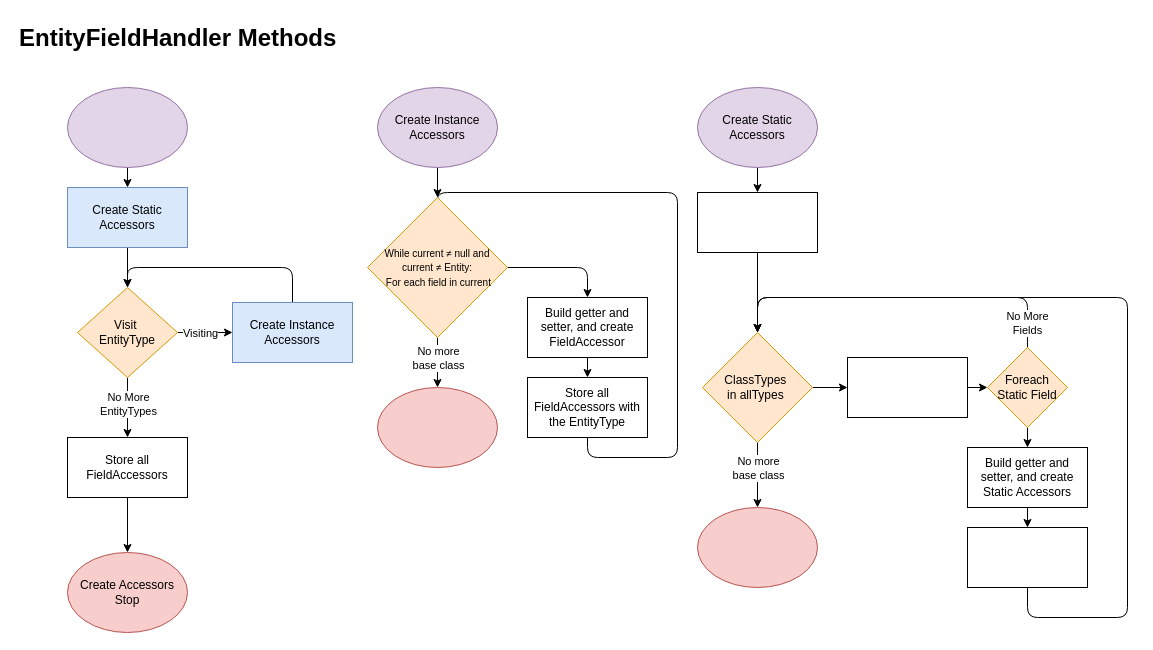
This 1153x650 diagram has some shape labels left out. The box of each missing label's shape, as (x1, y1, x2, y2) in pixels:
Create Accessors: (66, 86, 188, 168)
Create Instance Accessors Stop: (376, 386, 498, 468)
Create Static Accessors Stop: (696, 506, 818, 588)
Get all Entity Classes: (696, 192, 818, 252)
Get static fields from current ClassType: (846, 356, 968, 418)
Store all StaticAccessors: (966, 526, 1088, 588)
